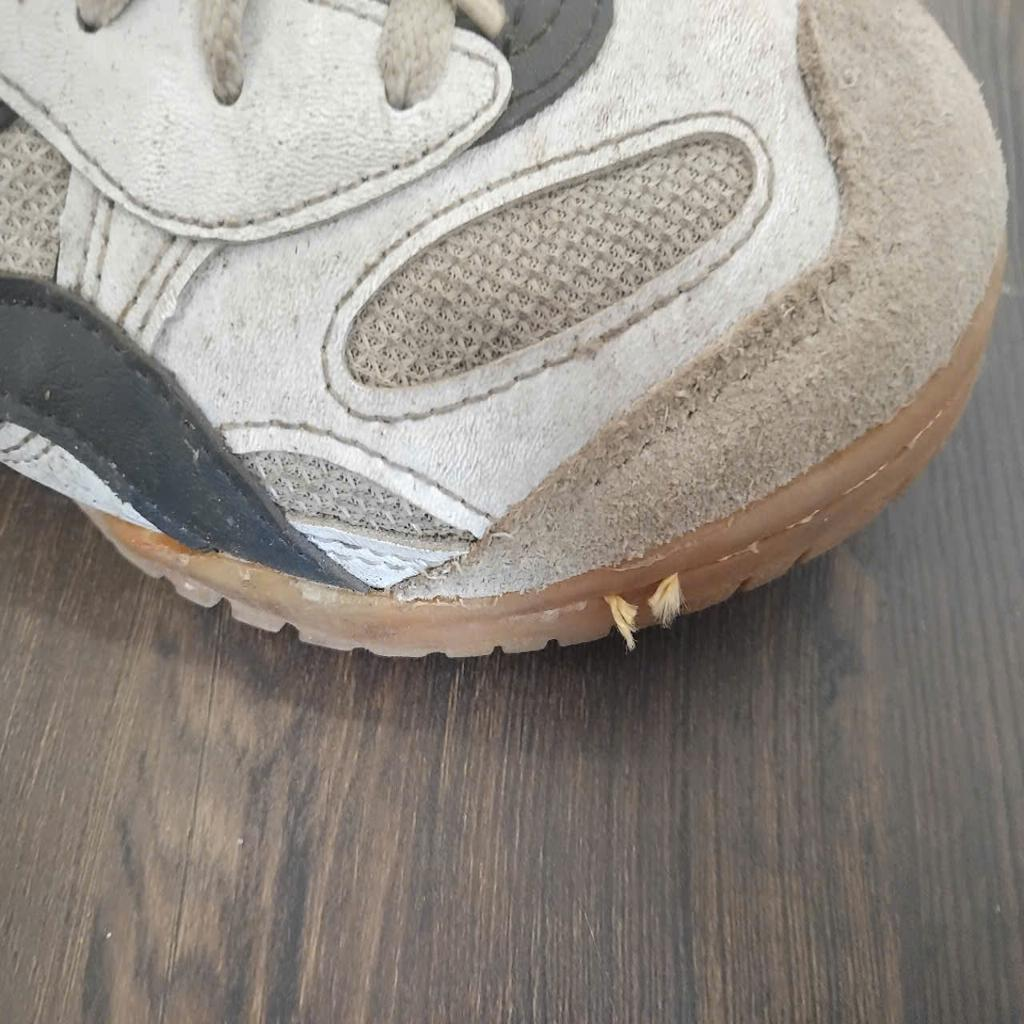broken: (602, 561, 689, 651)
